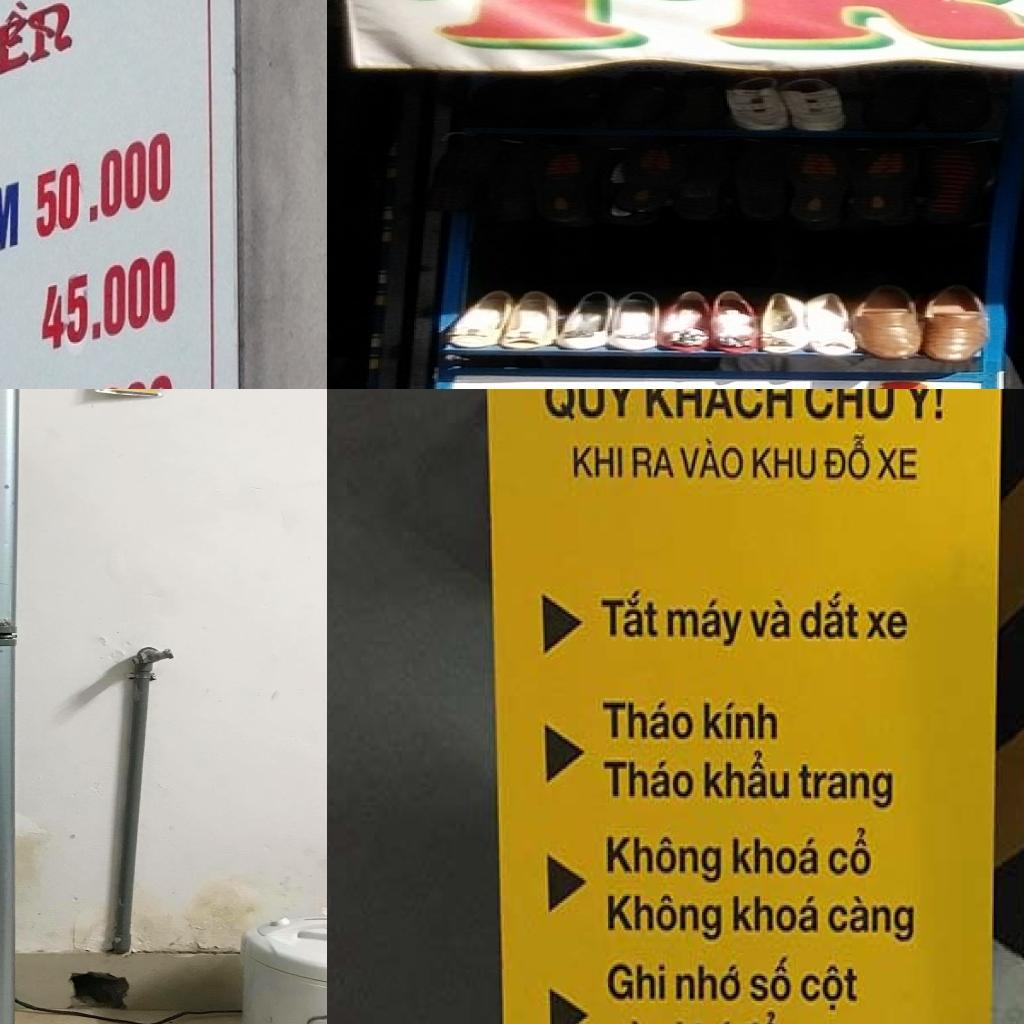text: (378, 0, 1024, 49), (34, 123, 174, 247), (40, 244, 178, 359), (0, 0, 75, 135), (606, 894, 724, 948), (606, 835, 724, 887), (644, 389, 796, 423), (702, 748, 794, 803), (799, 764, 895, 814), (827, 894, 917, 946), (601, 698, 697, 744), (666, 598, 750, 648), (603, 760, 697, 803), (733, 835, 821, 880), (733, 894, 821, 937), (799, 586, 861, 644), (539, 389, 640, 423), (702, 700, 780, 744), (600, 587, 661, 641), (678, 436, 746, 484), (804, 389, 896, 423), (674, 962, 744, 1006), (799, 962, 859, 1012), (604, 962, 668, 1006), (827, 828, 876, 880), (0, 177, 22, 289), (751, 446, 818, 482), (823, 434, 873, 482), (748, 956, 794, 1006), (572, 446, 625, 482), (750, 598, 794, 641), (864, 607, 912, 644), (632, 446, 678, 480), (903, 389, 945, 425), (876, 448, 920, 482), (736, 1009, 784, 1024)
